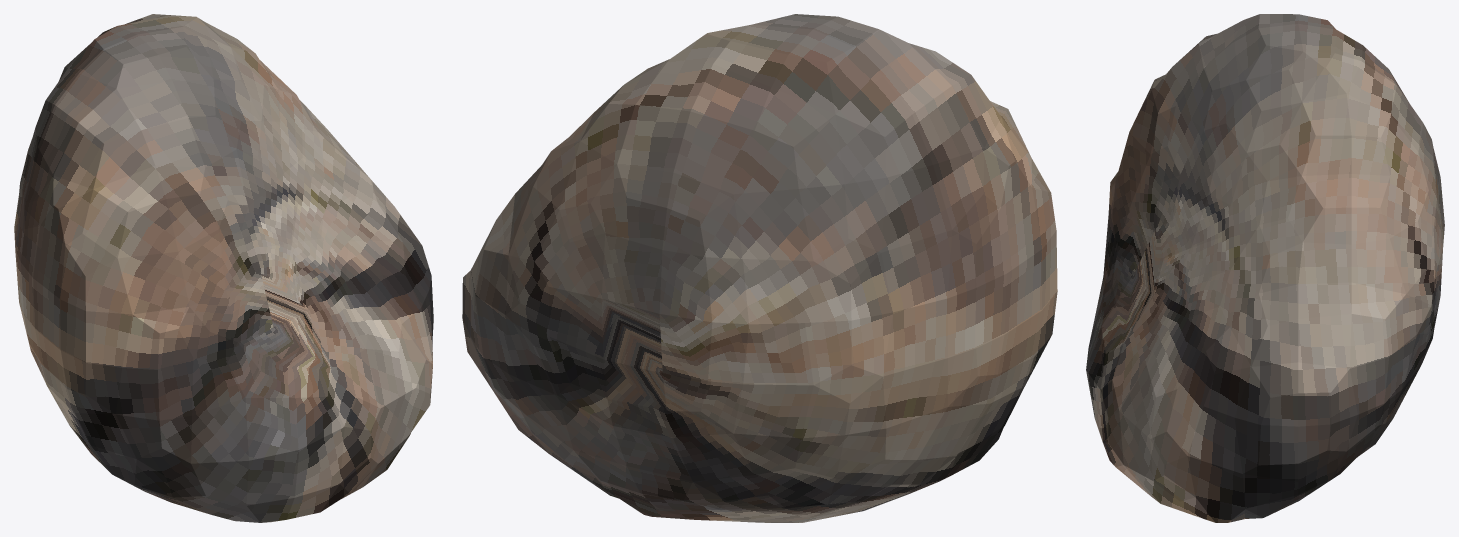
The model's file is boulderlarge.glb.
3 views of the same model, side by side, from view 1: azimuth 30°, elevation 25°; view 2: azimuth 150°, elevation 25°; view 3: azimuth 270°, elevation 25° (orthographic). The views are drawn at different scales.
Visible parts, largest first — view 1: rock; view 2: rock; view 3: rock.
Part boxes in pixels (x1,y1,x2,y2): rock: [14, 14, 433, 522]; rock: [462, 14, 1057, 522]; rock: [1086, 14, 1444, 522].
Size of the model in its own units: 1.52 by 1.6 by 1.22.
Materials: 1 (1 with a texture image).
